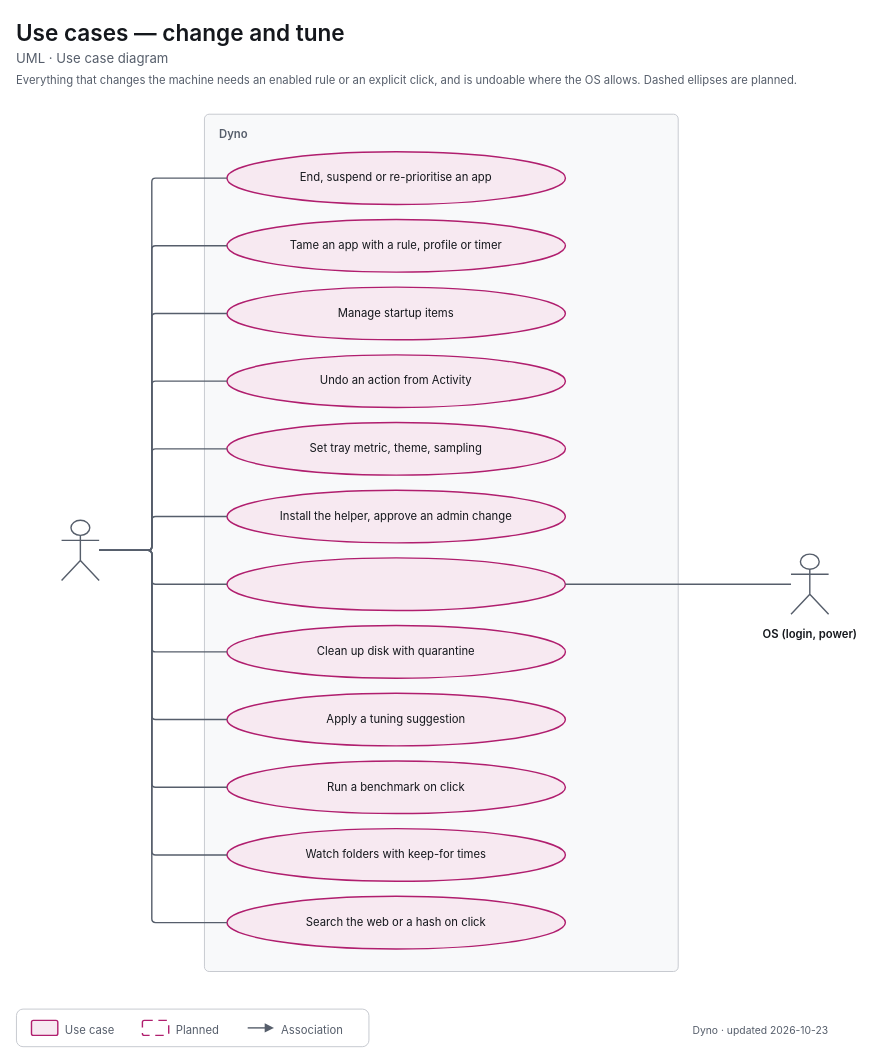
Image size: 873x1063. Some labels were removed from this diagram. Each missing label, with the centre of its shape:
PC owner: the point at 79,550
Start the agent at login: the point at 396,584
